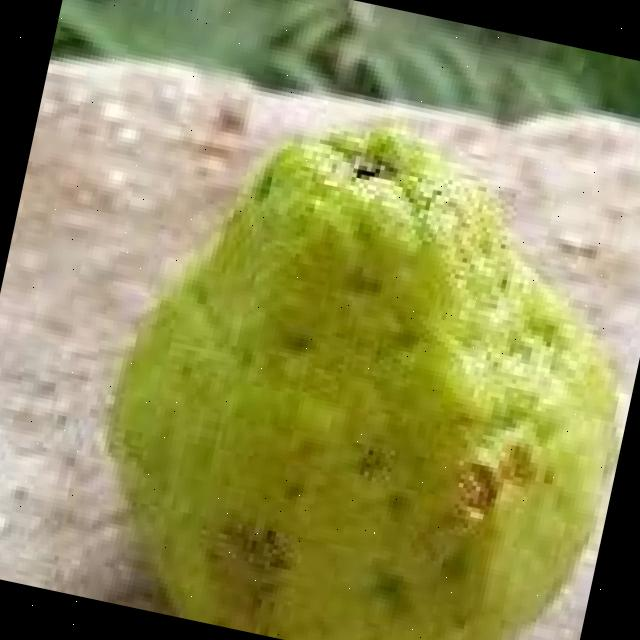Good_Guava 5-7 days: (109, 130, 616, 640)
